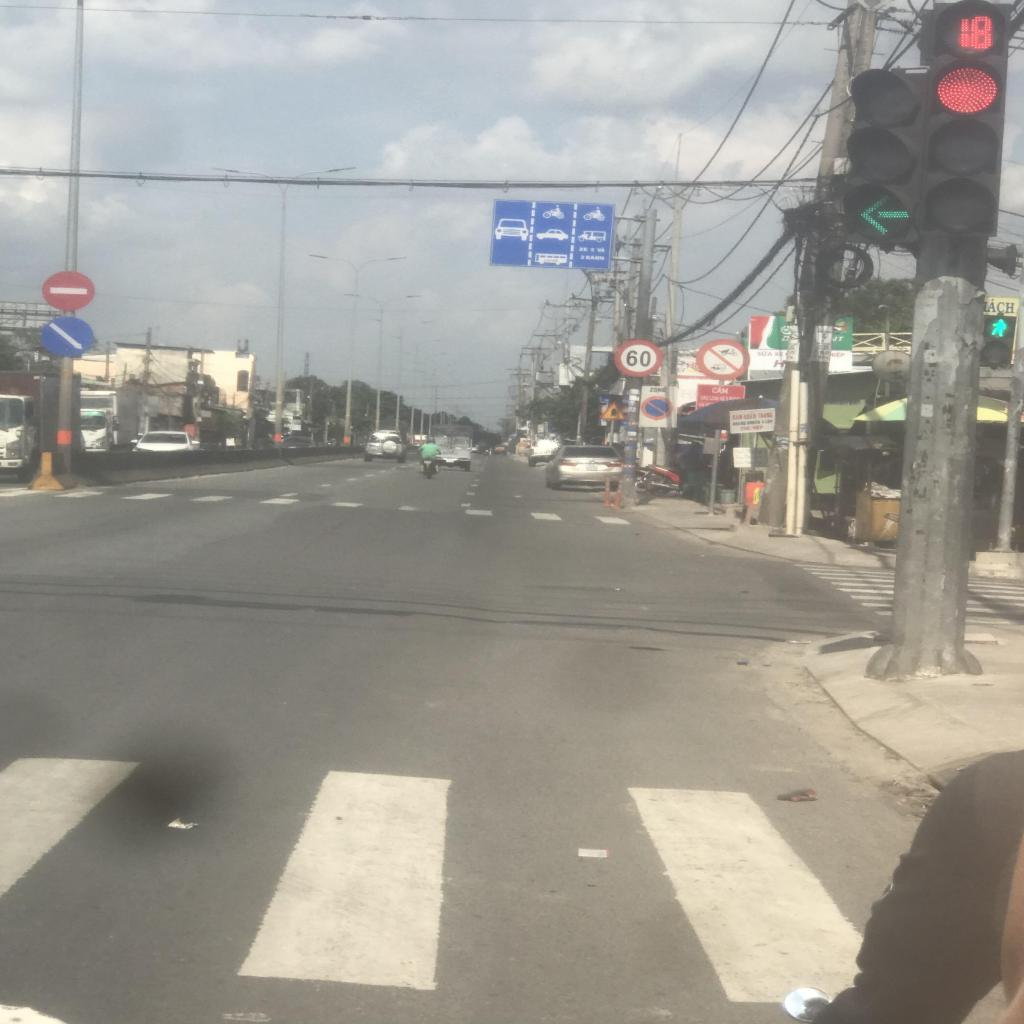cam_cac_loai_xe_3_banh: (696, 340, 750, 380)
cam_do_xe: (641, 396, 673, 420)
cam_xe_di_nguoc_chieu: (41, 271, 94, 311)
giao_nhau_voi_duong_khong_uu_tien: (600, 401, 628, 421)
huong_phai_di_vuot_chuong_ngai_vat_phai: (41, 317, 94, 356)
lan_duong_cho_tung_xe_theo_vach_ke_duong: (490, 201, 614, 269)
toc_do_toi_da_60: (614, 339, 663, 377)
